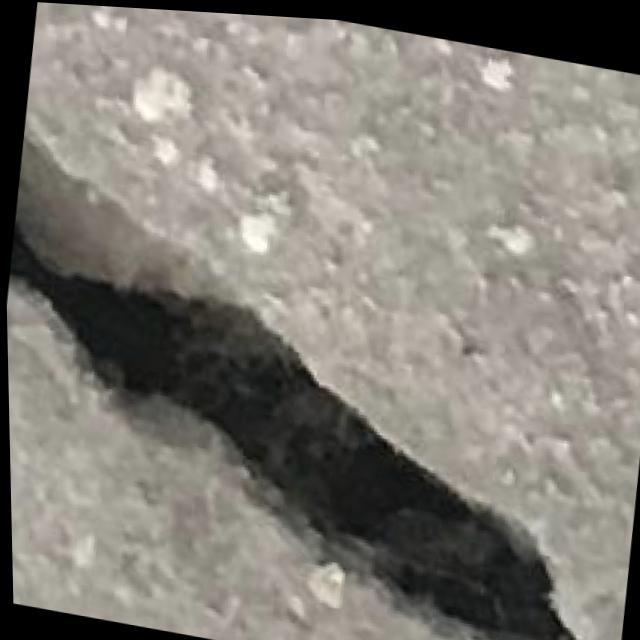Crack: (2, 123, 640, 640)
